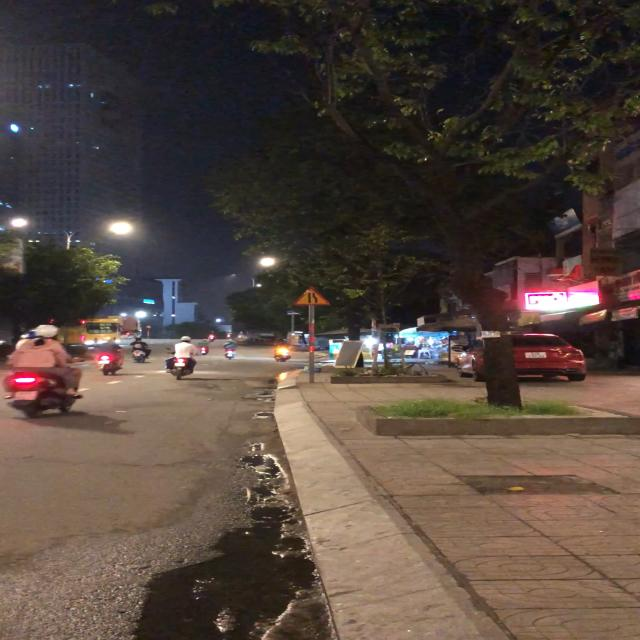Bien bao duong bi thu hep: (289, 285, 340, 307)
